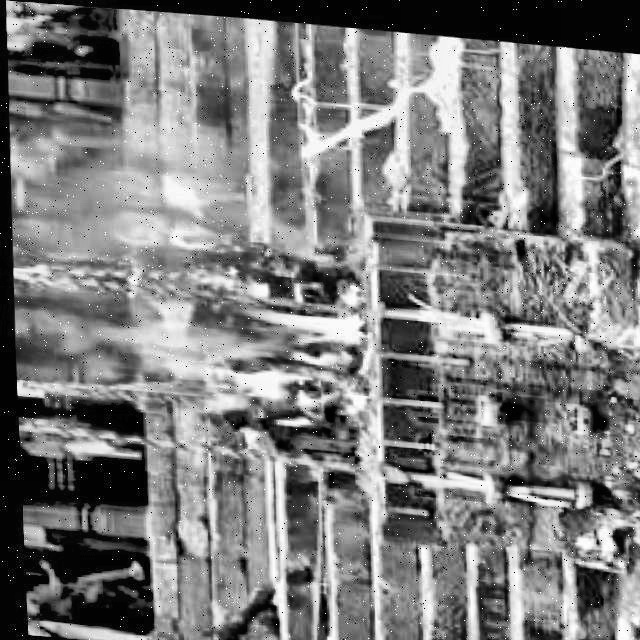Fire: (134, 284, 367, 406)
